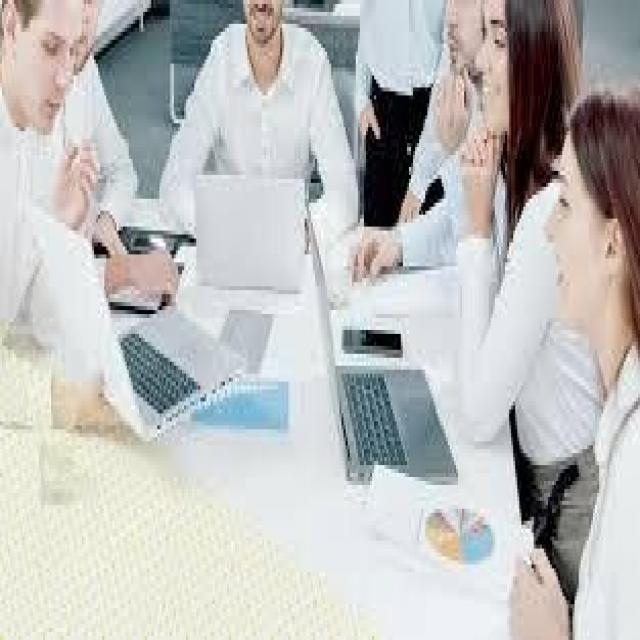person: (348, 16, 605, 525), (515, 92, 638, 624), (4, 0, 131, 441), (173, 0, 349, 266), (374, 0, 509, 318), (43, 0, 163, 254)
